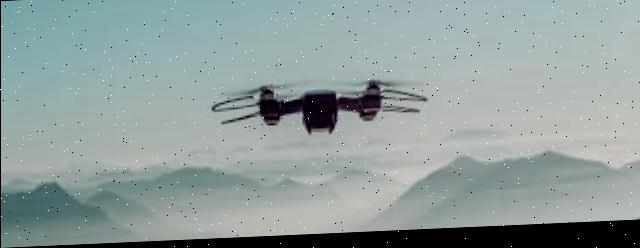drone: (202, 68, 438, 156)
